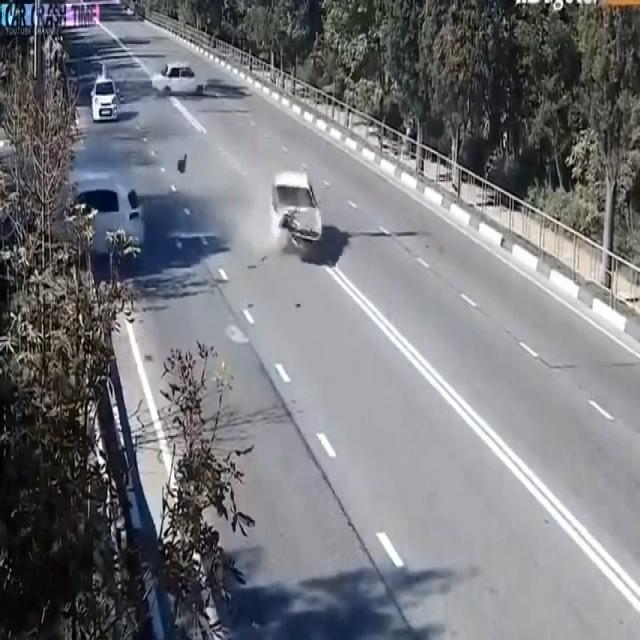Accident: (264, 155, 343, 296), (67, 151, 140, 240)
